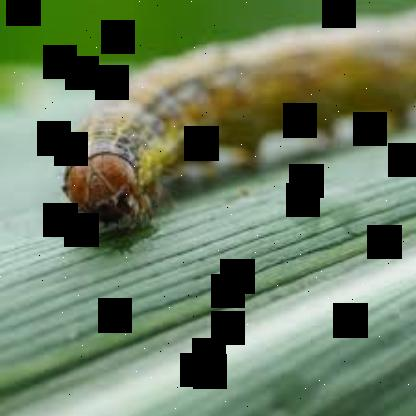oruga: (62, 9, 416, 247)
